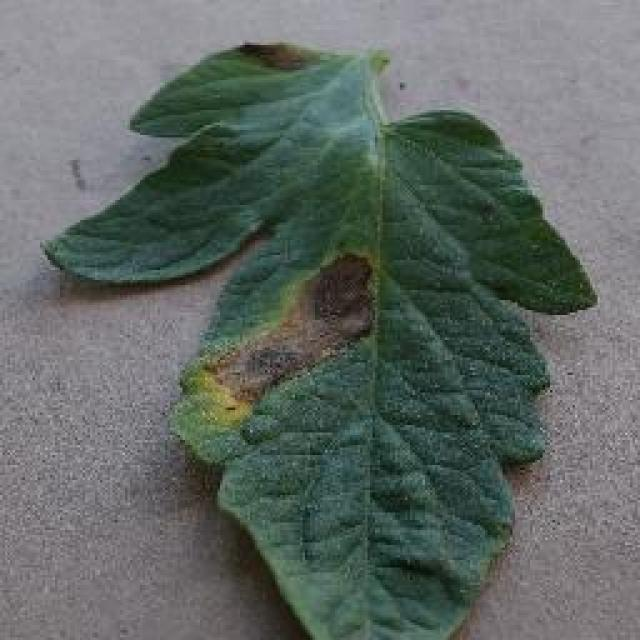Tomato___Early_blight: (39, 43, 602, 638)
